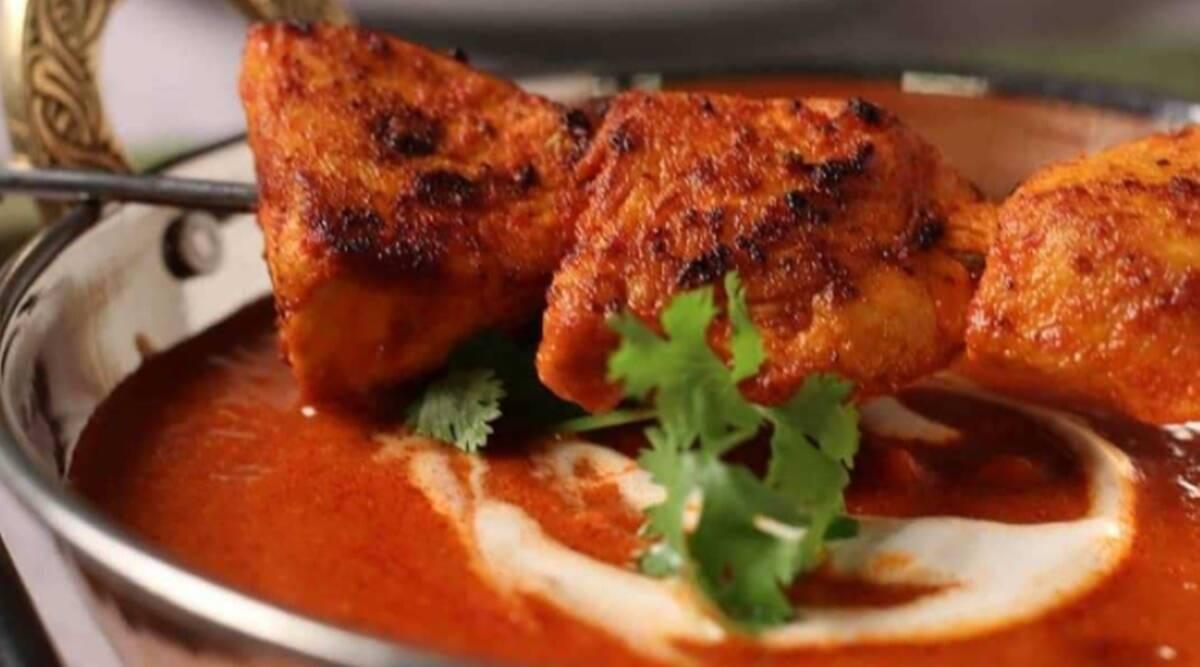chicken: (142, 13, 1188, 654)
